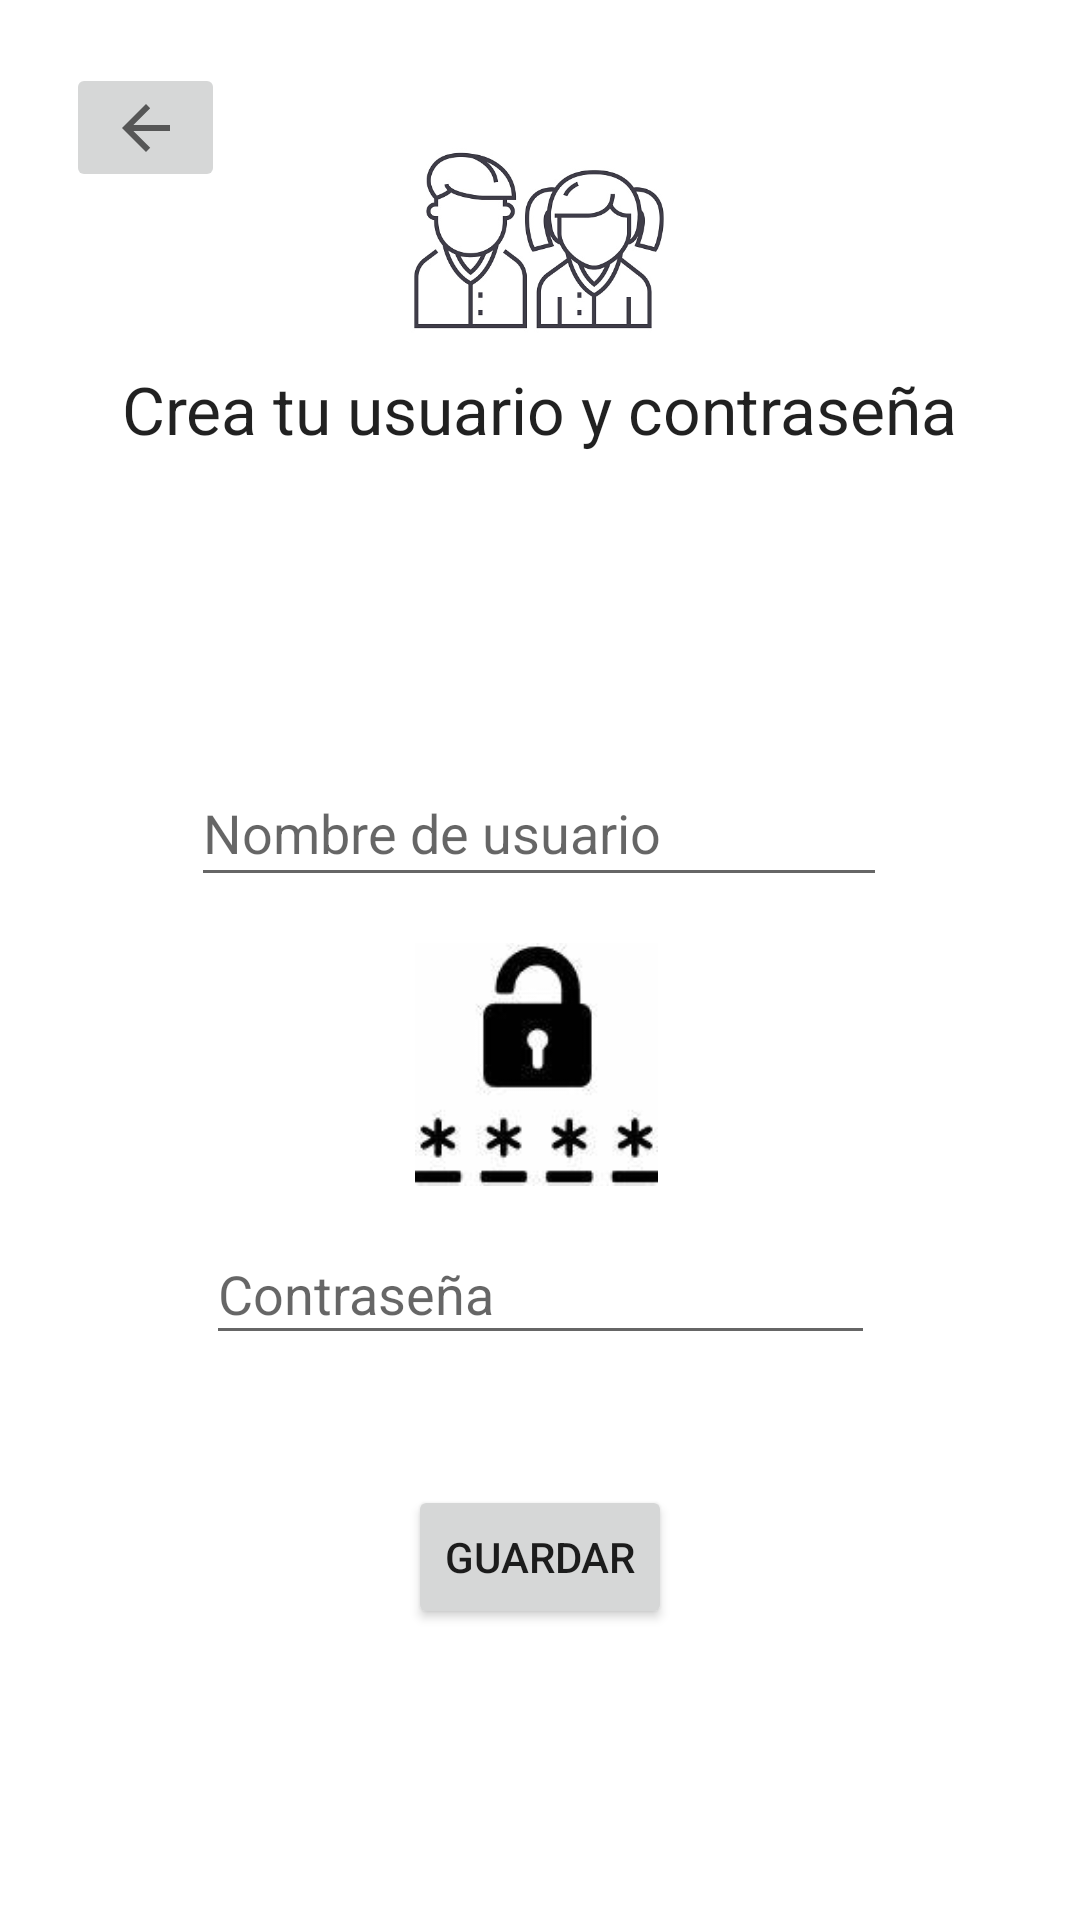

Screen size 1080x1920. Icon name, then its center in pixels as (x,y):
alumno: (539,240)
contrasena: (536,1065)
